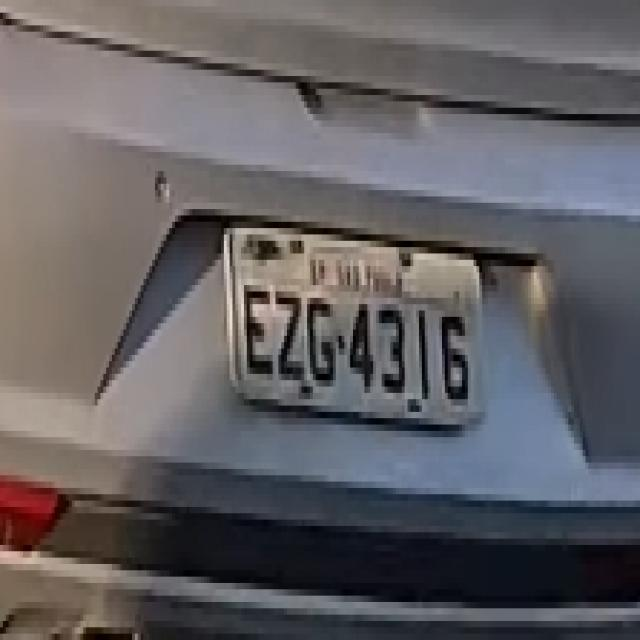Placa_mercosul_carro: (223, 227, 488, 438)
